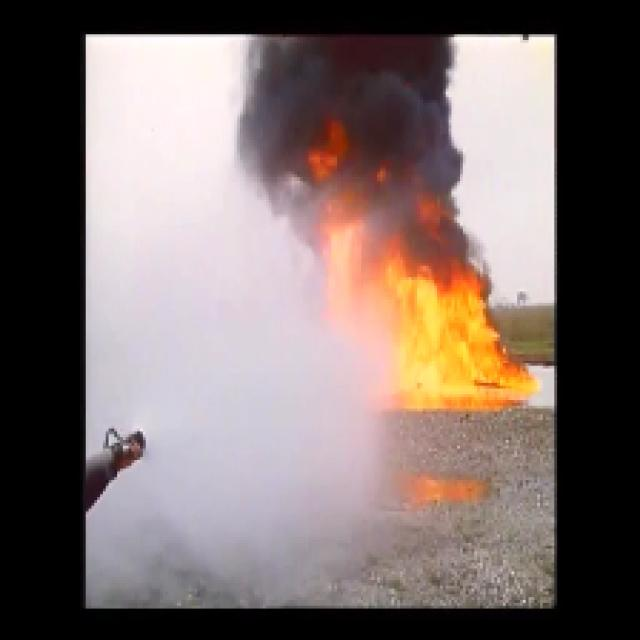fire: (399, 276, 502, 392)
smoke: (292, 40, 432, 227)
